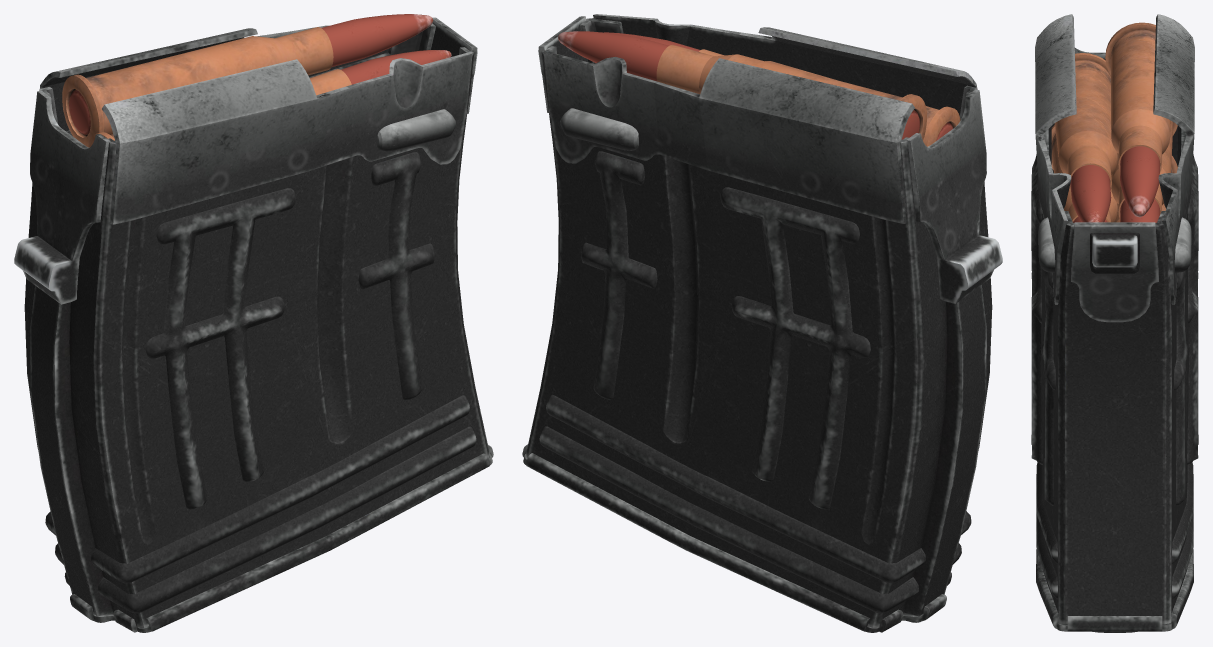
The model's file is magazine_dragunov_sniper_rifle_ak-4710_bullets.glb.
3 renders of one model, left to right at view 1: azimuth 30°, elevation 25°; view 2: azimuth 150°, elevation 25°; view 3: azimuth 270°, elevation 25°, orthographic. The views are drawn at different scales.
Visible parts, largest first — view 1: Object_3, Object_2; view 2: Object_3, Object_2; view 3: Object_3, Object_2.
Part boxes in pixels (box(x1,y1,x2,y2)): Object_3: box(24, 23, 493, 632); Object_2: box(14, 14, 477, 613); Object_3: box(522, 14, 992, 632); Object_2: box(538, 16, 1002, 613); Object_3: box(1035, 14, 1194, 631); Object_2: box(1031, 47, 1198, 632).
Size of the model in its own units: 0.0967 by 0.1122 by 0.0328.
Materials: 1 (1 with a texture image).
